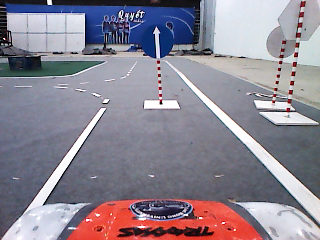straight: (140, 23, 175, 61)
